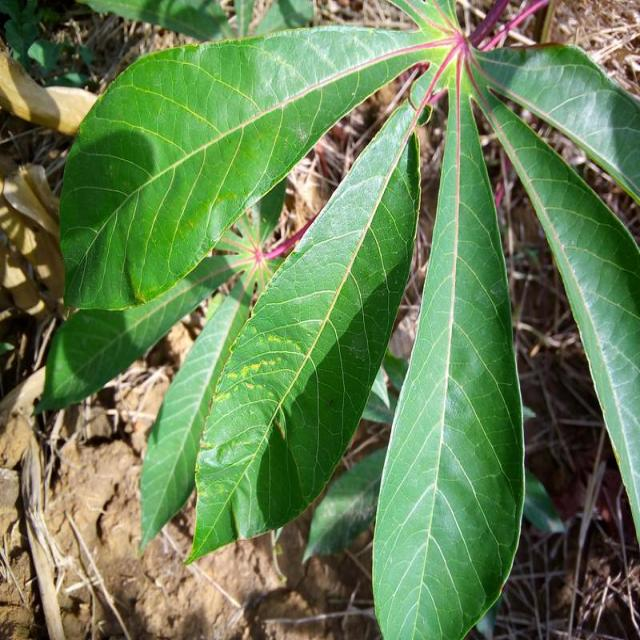cassava leaf: (45, 2, 639, 637), (184, 97, 424, 566), (58, 22, 443, 314), (372, 50, 526, 638), (469, 45, 640, 548)
